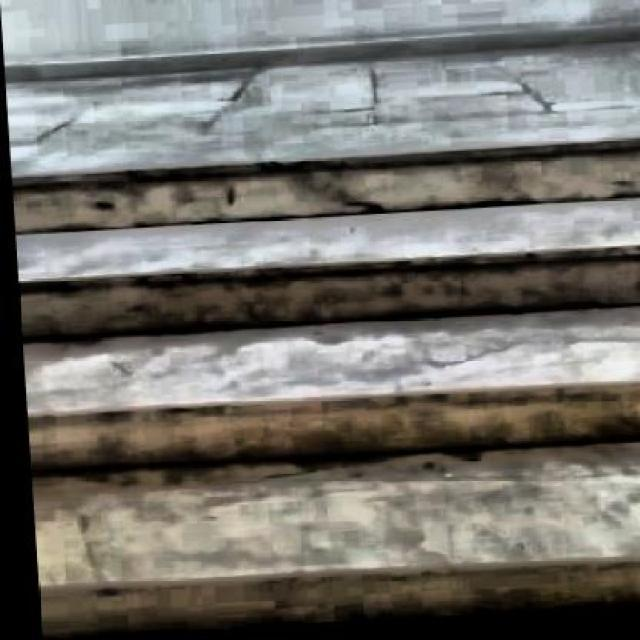stair: (9, 136, 638, 638)
